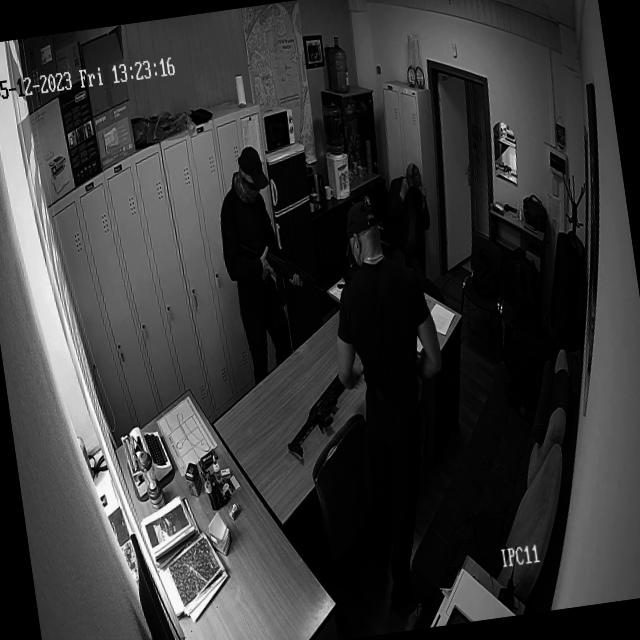gun: (273, 355, 367, 474), (251, 216, 316, 308)
person: (386, 156, 426, 222)
person with a gun: (316, 172, 489, 569), (203, 133, 329, 381)
